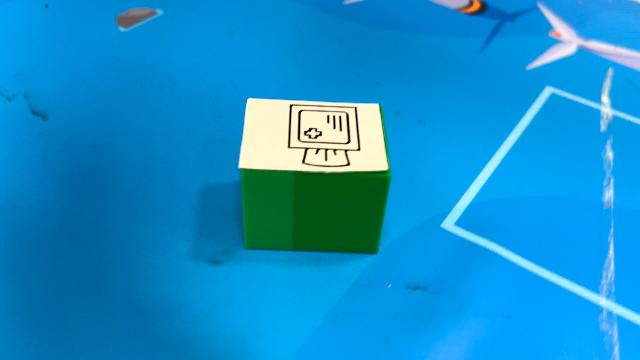napkin: (236, 94, 394, 256)
